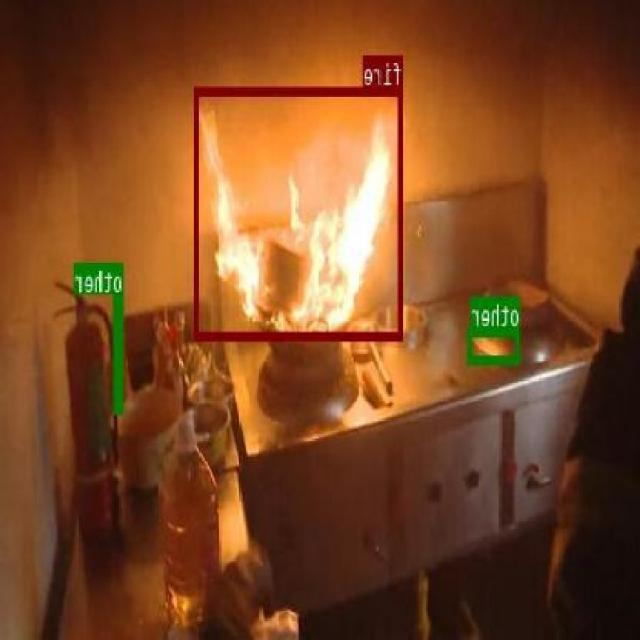Fire: (196, 84, 404, 340)
